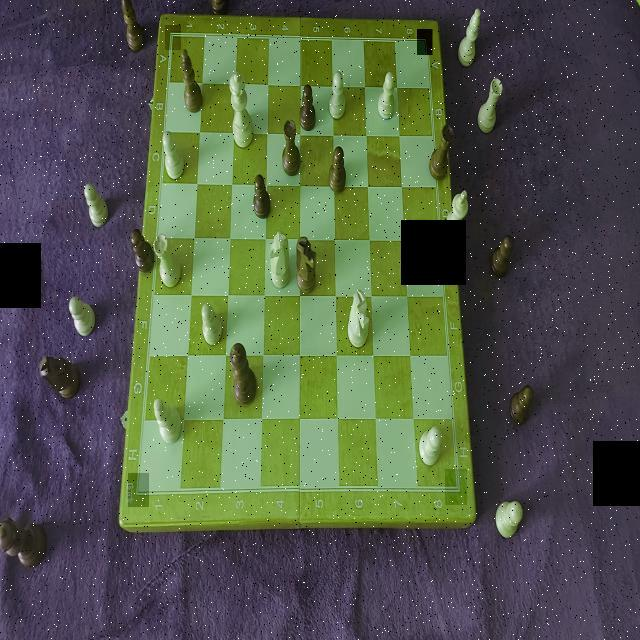chess-table-corners: (445, 469, 467, 505), (128, 473, 149, 507), (165, 25, 181, 50), (418, 29, 433, 55)
